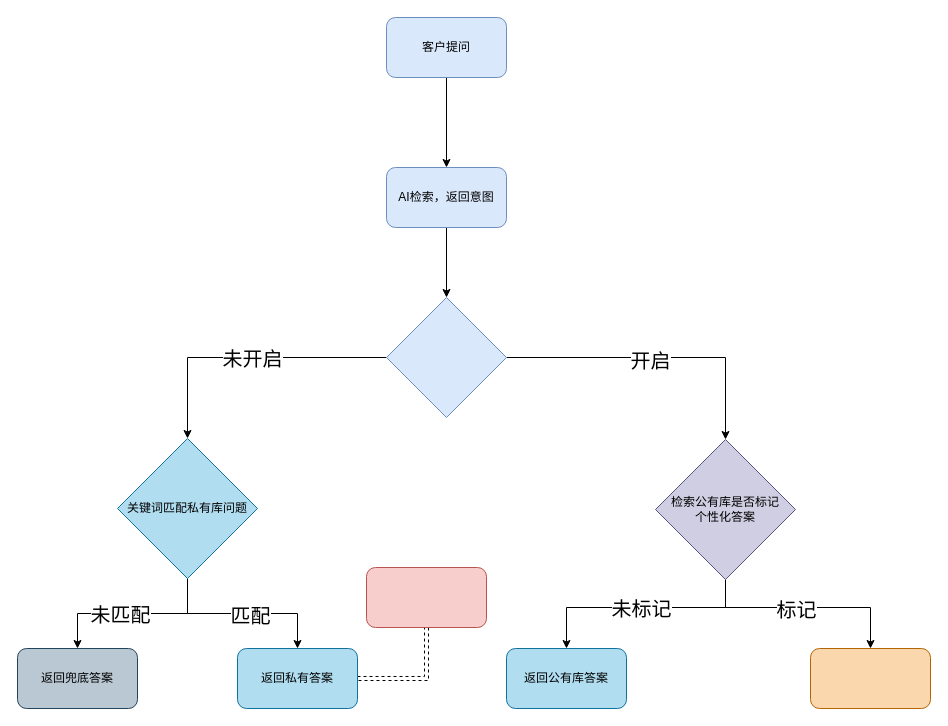
Some shapes in this 948 by 726 pixel diagram are drawn without their labels. Each missing label, with the centre of its shape:
"是否开启智能问答" goes at [446,357].
"查询已配置的 跳转按钮" goes at [426,597].
"返回个性化答案" goes at [870,678].
